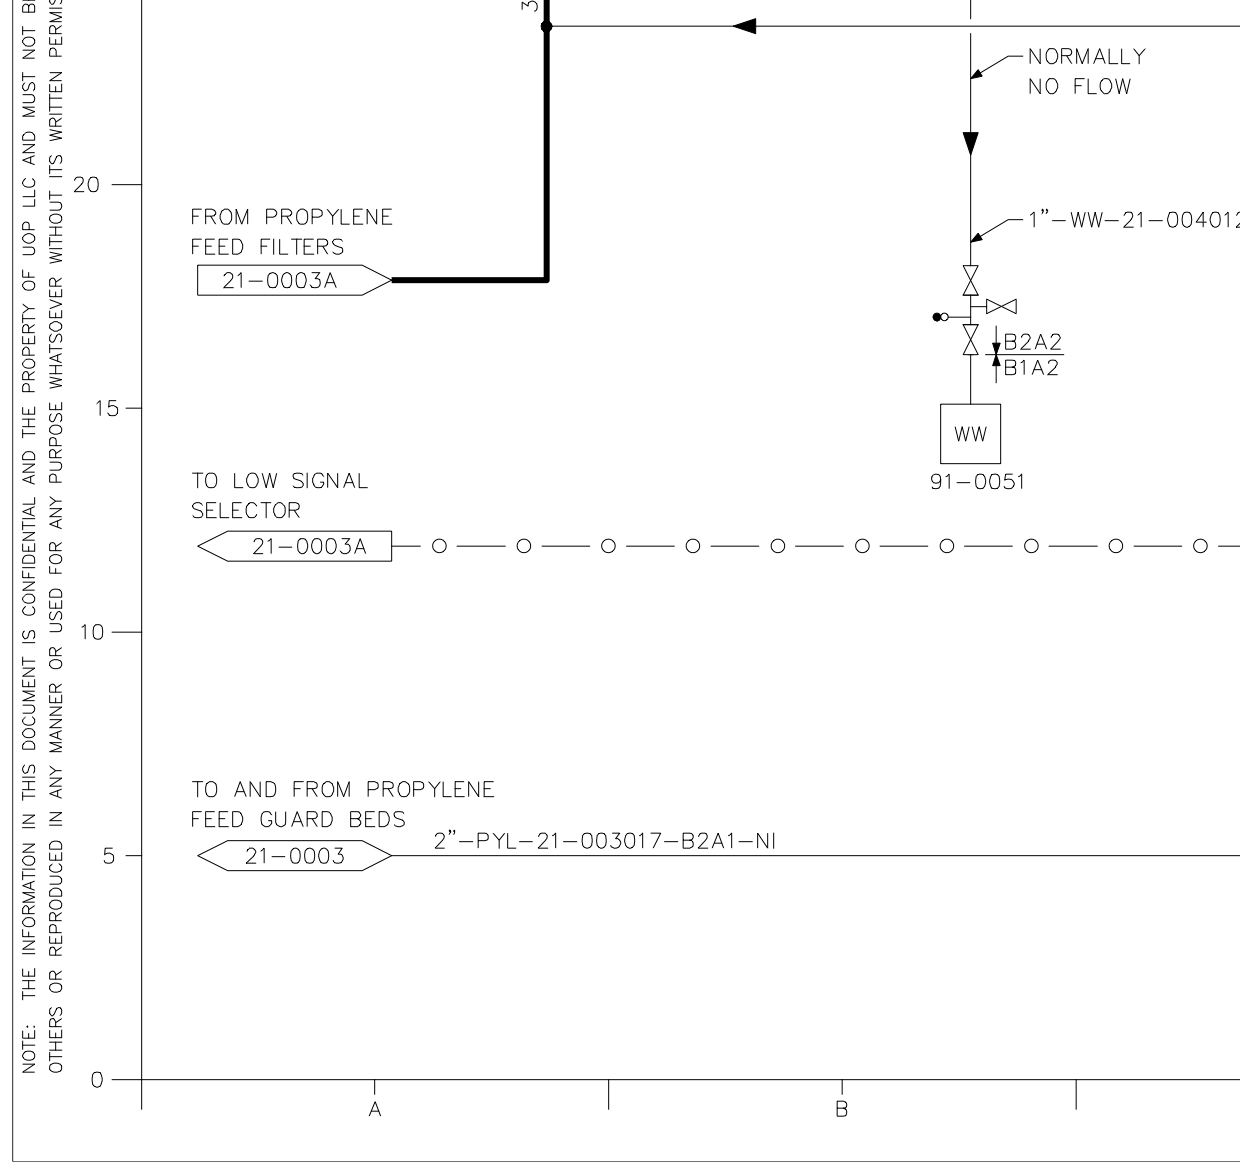Line Number: (431, 826, 781, 851)
Page In: (187, 261, 396, 303)
Page Out: (188, 526, 400, 567)
